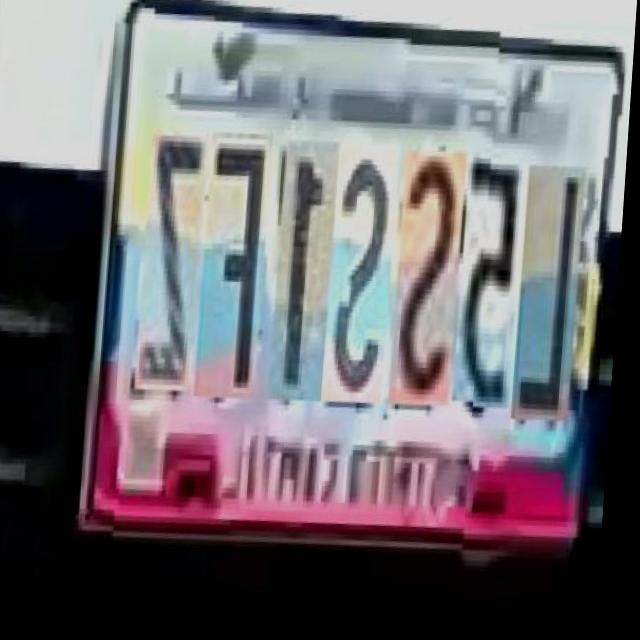1: (274, 150, 343, 415)
5: (459, 161, 530, 416)
f: (198, 142, 276, 415)
l: (518, 167, 590, 429)
s: (327, 150, 403, 419), (394, 158, 471, 420)
z: (139, 141, 211, 407)
